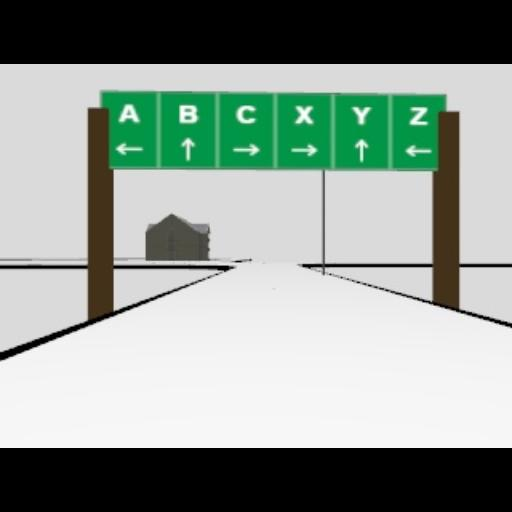A: (117, 102, 143, 124)
B: (178, 104, 200, 124)
C: (234, 103, 260, 127)
Left: (403, 142, 435, 160), (114, 142, 146, 158)
Right: (290, 142, 318, 158), (232, 143, 260, 157)
Straight: (180, 136, 198, 162), (353, 137, 371, 163)
X: (292, 104, 316, 126)
Y: (350, 104, 372, 128)
Z: (408, 104, 430, 128)
